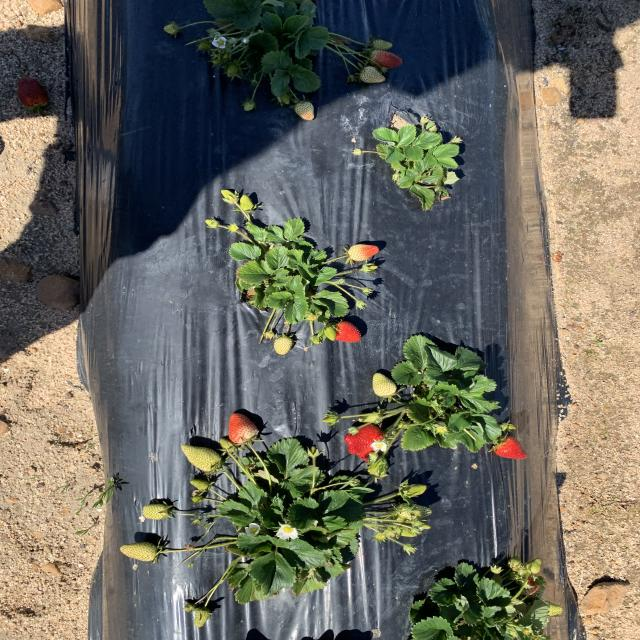unripe: (344, 423, 389, 462), (490, 434, 527, 460), (329, 322, 362, 343), (371, 51, 402, 68)
